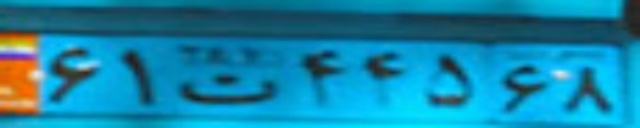1: (115, 46, 158, 104)
4: (359, 51, 407, 109), (300, 48, 348, 105)
5: (419, 54, 474, 106)
6: (45, 45, 103, 102), (494, 64, 553, 112)
8: (564, 63, 616, 114)
te: (174, 72, 276, 103)
